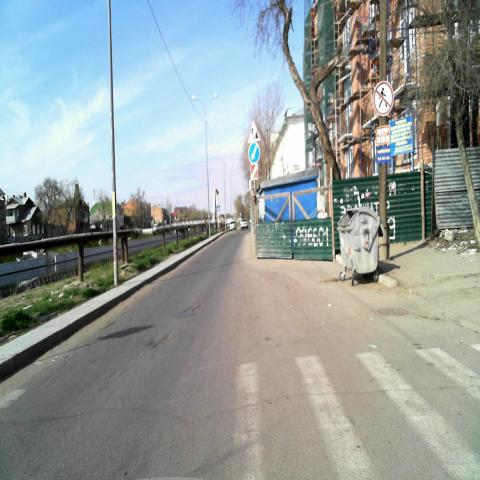3_10: (372, 80, 394, 118)
